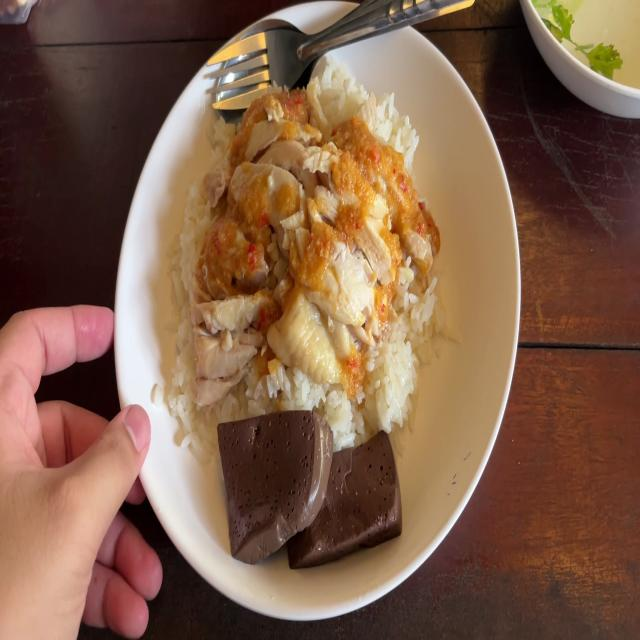boiled_chicken: (184, 91, 414, 400)
boiled_chicken_blood_jelly: (214, 412, 326, 564), (288, 431, 398, 562)
chicken_rice: (153, 47, 443, 573)
